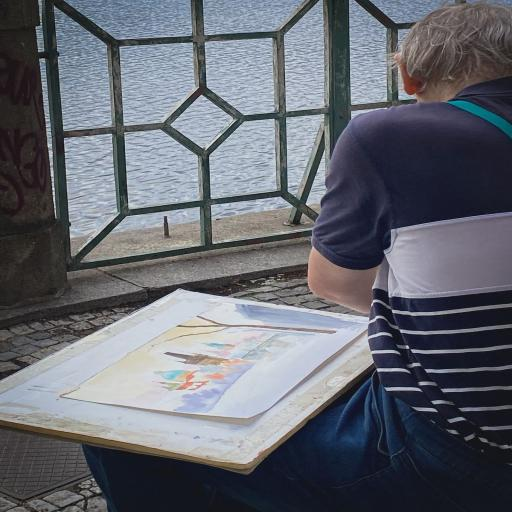laptop: (85, 2, 511, 511)
